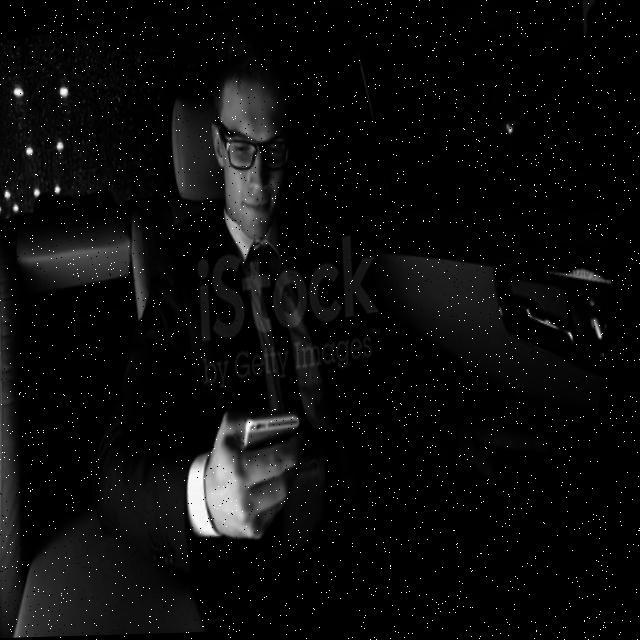PhoneCall: (242, 412, 323, 528)
